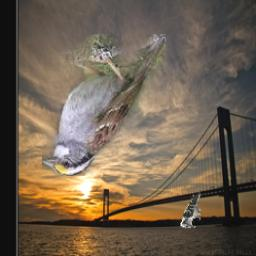Sparrow: (43, 35, 166, 177)
Woodpecker: (181, 190, 201, 229)
